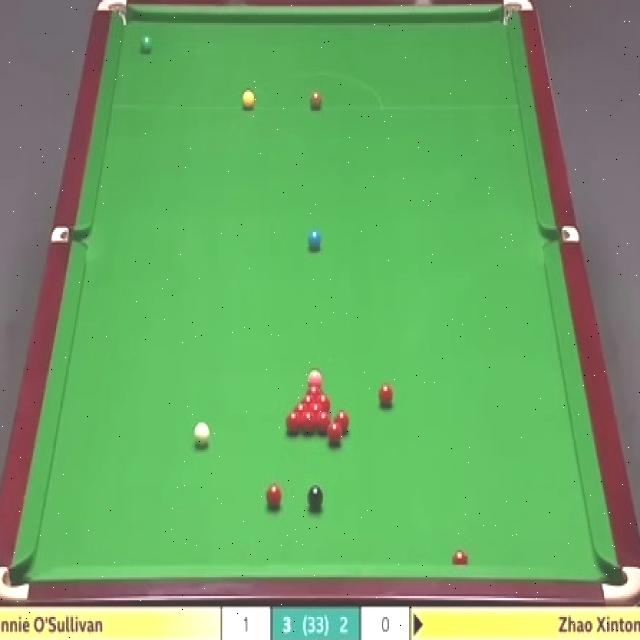black-ball: (308, 485, 324, 512)
blue-ball: (308, 230, 322, 250)
brown-ball: (309, 91, 323, 111)
green-ball: (140, 36, 152, 54)
pink-ball: (307, 368, 322, 381)
red-ball: (264, 484, 282, 510), (378, 384, 394, 409), (316, 411, 332, 435), (285, 411, 301, 434), (451, 548, 469, 568), (334, 410, 349, 434), (327, 423, 342, 446), (301, 410, 315, 433), (317, 393, 331, 410), (304, 382, 322, 393), (300, 393, 316, 403), (293, 403, 308, 412), (308, 403, 324, 411)
white-ball: (193, 420, 210, 452)
yellow-ball: (241, 90, 254, 110)
